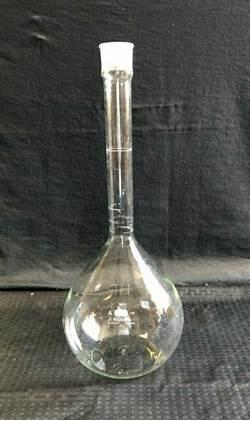Volumetric flask: (53, 34, 183, 379)
